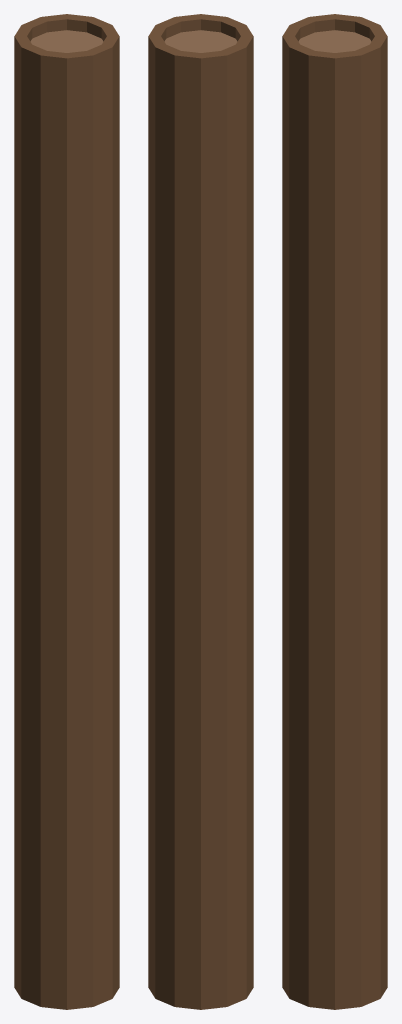
File: mesh_wood_pillar.fbx
The picture shows the model from 3 angles, left to right: view 1: azimuth 30°, elevation 25°; view 2: azimuth 210°, elevation 25°; view 3: azimuth 330°, elevation 25°; orthographic projection.
Parts seen in each view (by area): view 1: mesh_wood_pillar; view 2: mesh_wood_pillar; view 3: mesh_wood_pillar.
Boxes of the visible parts, bbox=[...] form: mesh_wood_pillar: bbox=[14, 14, 119, 1009]; mesh_wood_pillar: bbox=[148, 14, 253, 1009]; mesh_wood_pillar: bbox=[282, 14, 387, 1009].
Bounding box in the file's own units: 0.2002 × 2 × 0.2002.
